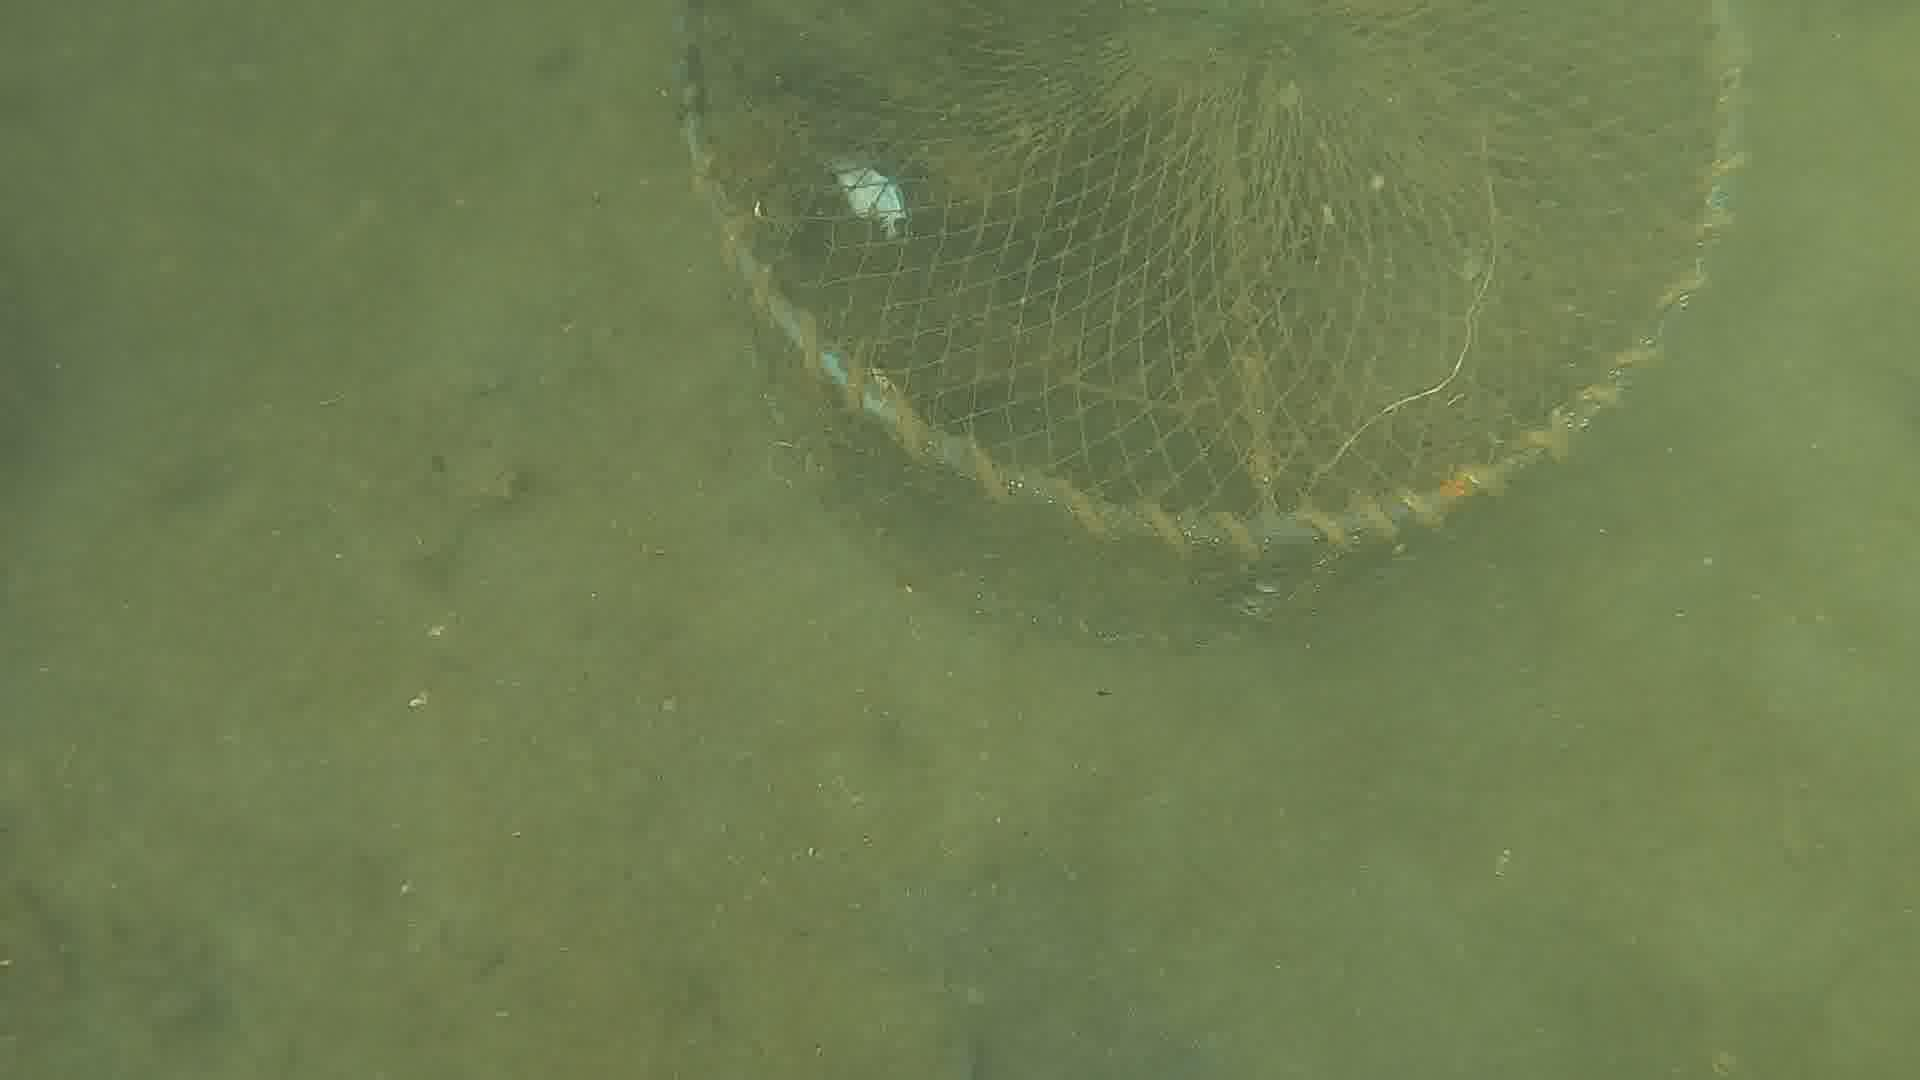circular fish trap: (673, 0, 1754, 663)
